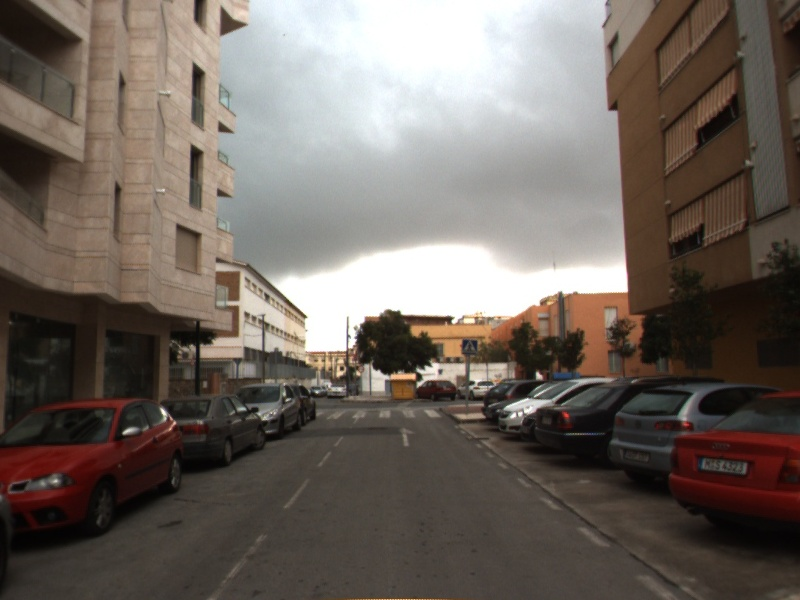STRAIGHT: (395, 425, 419, 448)
